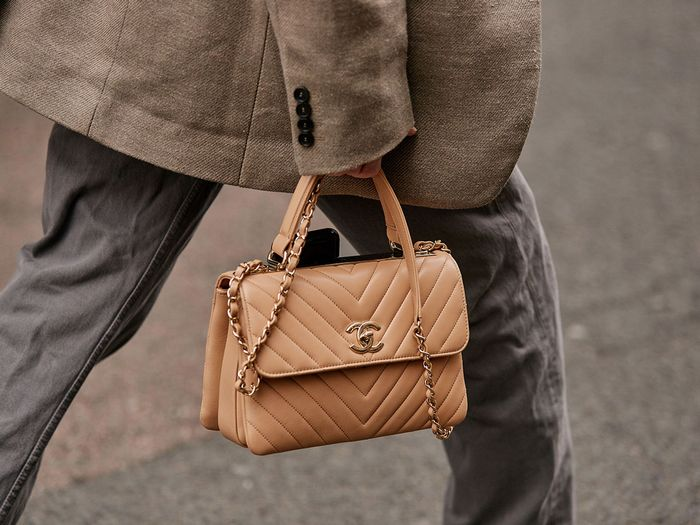channel: (193, 239, 490, 461), (233, 269, 300, 392), (344, 320, 392, 362)
